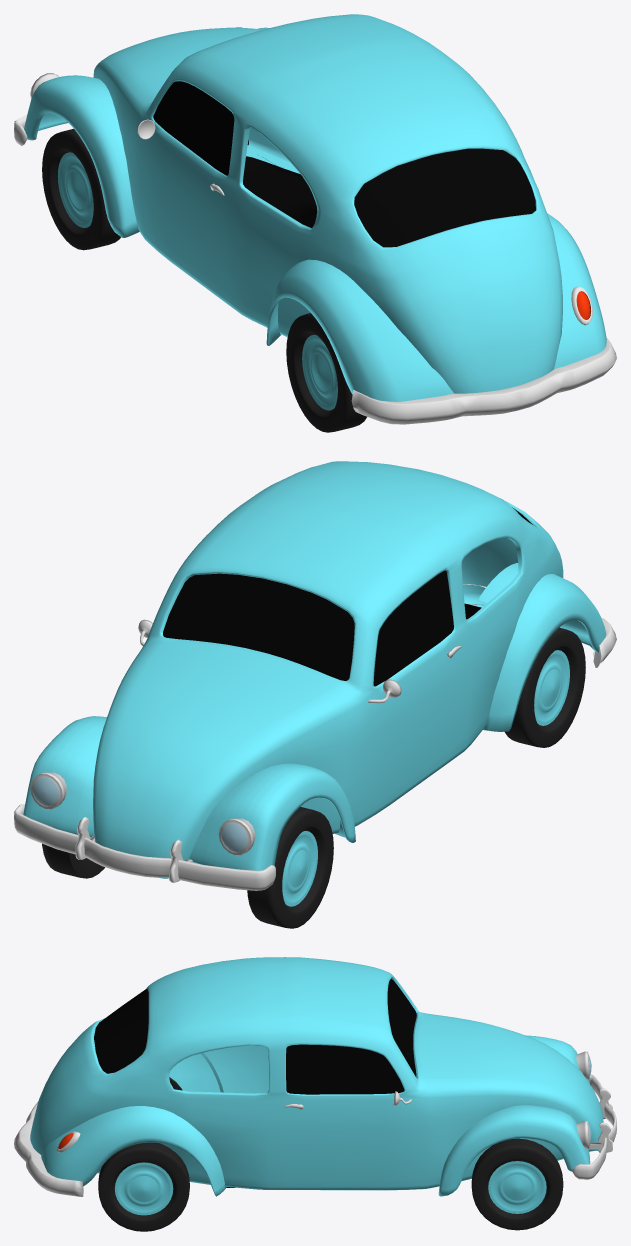
The model's file is bocho.glb.
The picture shows the model from 3 angles, top to bottom: view 1: azimuth 30°, elevation 25°; view 2: azimuth 150°, elevation 25°; view 3: azimuth 270°, elevation 25°; orthographic projection. The views are drawn at different scales.
Visible parts, largest first — view 1: Body, Windows, FenderRear, FenderFront, BumperRear, TireFL, TireRL, IdontKnowWhatToCallThese, WheelFL, WheelRL, RearLights; view 2: Body, Windows, FenderFront, FenderRear, BumperFront, TireFL, TireRL, WheelFL, WheelRL, Headlightes, TireFR, HeadlightRing (+1 smaller); view 3: Body, Windows, FenderRear, FenderFront, TireFR, TireRR, WheelRR, WheelFR, BumperRear, BumperFront, BumperHolder, HeadlightRing.
Boxes of the visible parts, left/top/right/bottom form: Body: left=93, top=14, right=562, bottom=393; Windows: left=153, top=81, right=535, bottom=247; FenderRear: left=266, top=213, right=606, bottom=401; FenderFront: left=24, top=27, right=269, bottom=237; BumperRear: left=351, top=337, right=616, bottom=424; TireFL: left=42, top=128, right=120, bottom=250; TireRL: left=286, top=313, right=366, bottom=432; IdontKnowWhatToCallThese: left=243, top=156, right=317, bottom=227; WheelFL: left=57, top=152, right=93, bottom=228; WheelRL: left=302, top=335, right=337, bottom=410; RearLights: left=571, top=286, right=592, bottom=325; Body: left=93, top=461, right=563, bottom=878; Windows: left=163, top=507, right=532, bottom=686; FenderFront: left=23, top=716, right=355, bottom=870; FenderRear: left=479, top=563, right=606, bottom=731; BumperFront: left=14, top=804, right=275, bottom=890; TireFL: left=247, top=807, right=333, bottom=928; TireRL: left=504, top=627, right=585, bottom=747; WheelFL: left=282, top=831, right=317, bottom=906; WheelRL: left=534, top=650, right=569, bottom=725; Headlightes: left=33, top=777, right=247, bottom=851; TireFR: left=42, top=843, right=104, bottom=878; HeadlightRing: left=30, top=772, right=255, bottom=855; Body: left=30, top=957, right=603, bottom=1190; Windows: left=94, top=979, right=416, bottom=1094; FenderRear: left=41, top=1053, right=226, bottom=1196; FenderFront: left=438, top=1035, right=590, bottom=1196; TireFR: left=471, top=1138, right=563, bottom=1230; TireRR: left=98, top=1142, right=189, bottom=1231; WheelRR: left=115, top=1162, right=173, bottom=1215; WheelFR: left=488, top=1161, right=546, bottom=1213; BumperRear: left=14, top=1102, right=83, bottom=1196; BumperFront: left=572, top=1074, right=616, bottom=1179; BumperHolder: left=588, top=1088, right=612, bottom=1152; HeadlightRing: left=576, top=1051, right=589, bottom=1148.
Size of the model in its own units: 1.22 by 1.22 by 3.21.
Materials: 4 (3 with a texture image).
